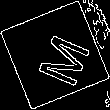M_NW: (23, 24, 87, 86)
